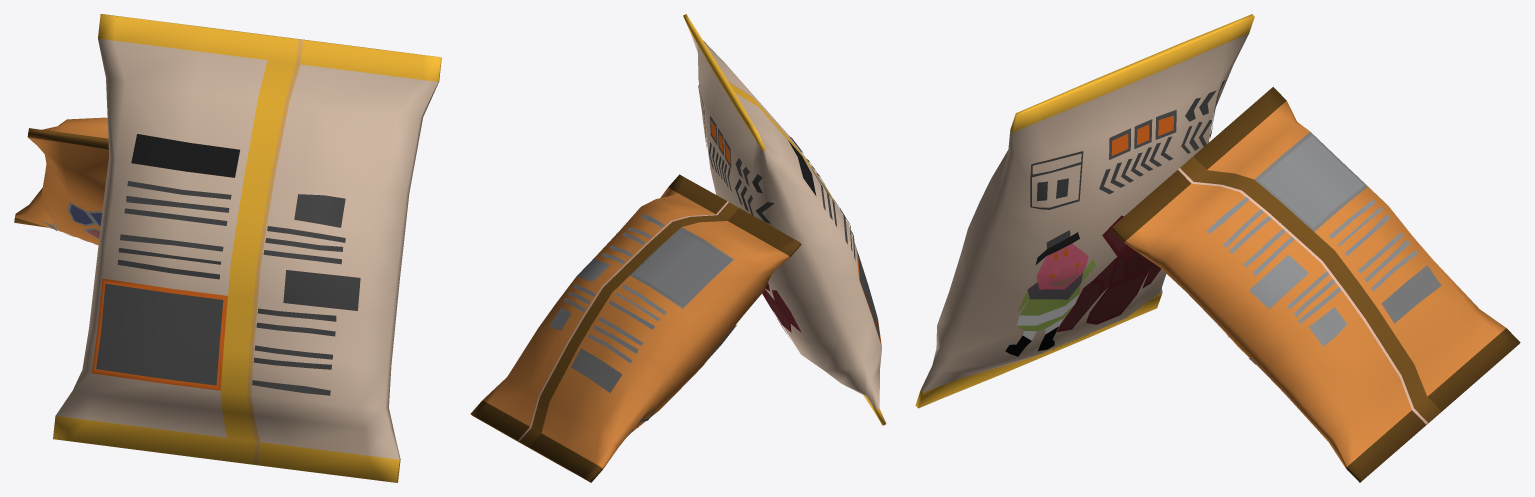
Rendered from shupian.fbx.
3 renders of one model, left to right at view 1: azimuth 30°, elevation 25°; view 2: azimuth 150°, elevation 25°; view 3: azimuth 270°, elevation 25°, orthographic. The views are drawn at different scales.
Parts seen in each view (by area): view 1: 薯片.001; view 2: 薯片.001; view 3: 薯片.001.
Boxes of the visible parts, box(x1,y1,x2,y2) form: 薯片.001: box(14, 14, 441, 482); 薯片.001: box(470, 14, 886, 482); 薯片.001: box(915, 14, 1520, 482).
Bounding box in the file's own units: 209 × 189 × 304.
